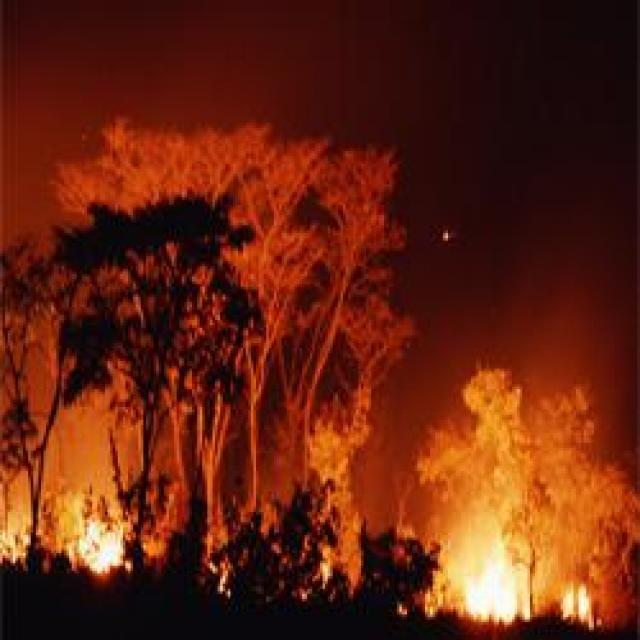fire: (404, 551, 640, 626), (0, 503, 172, 578)
